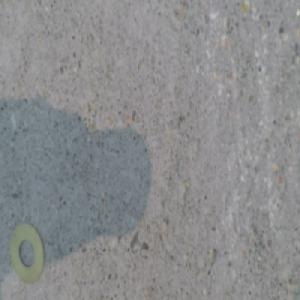Washer: (9, 221, 43, 281)
